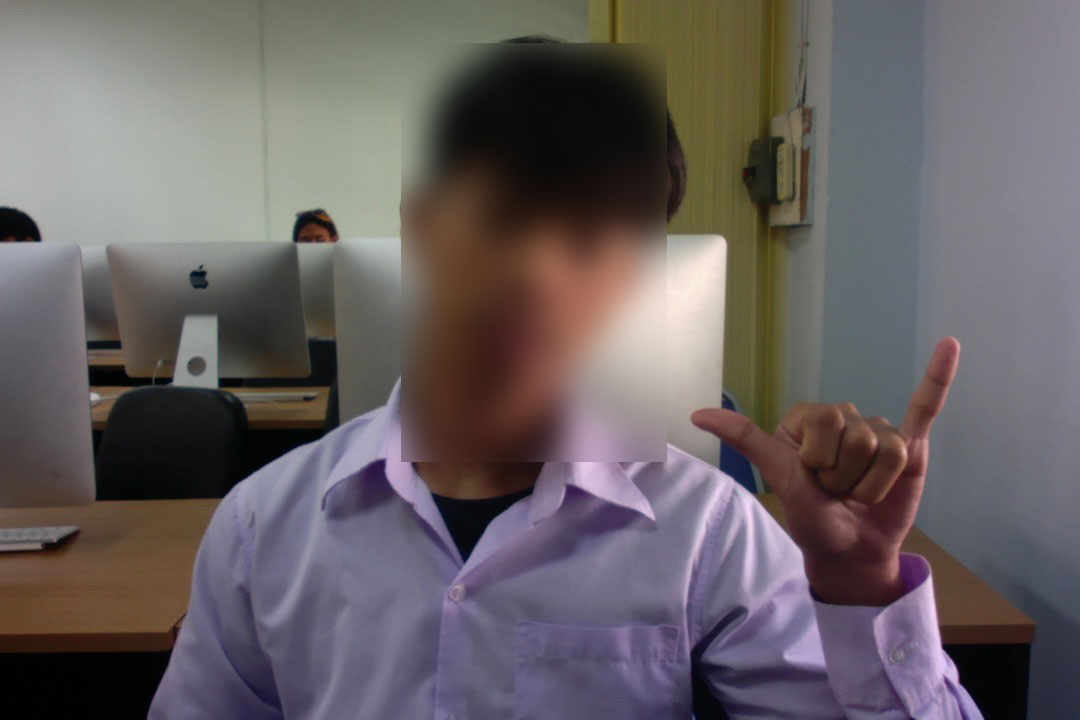yor: (682, 334, 969, 575)
